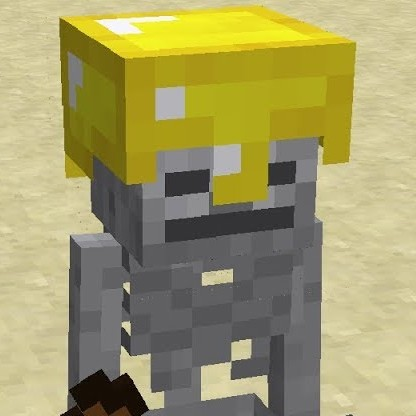skeleton: (54, 7, 359, 327)
